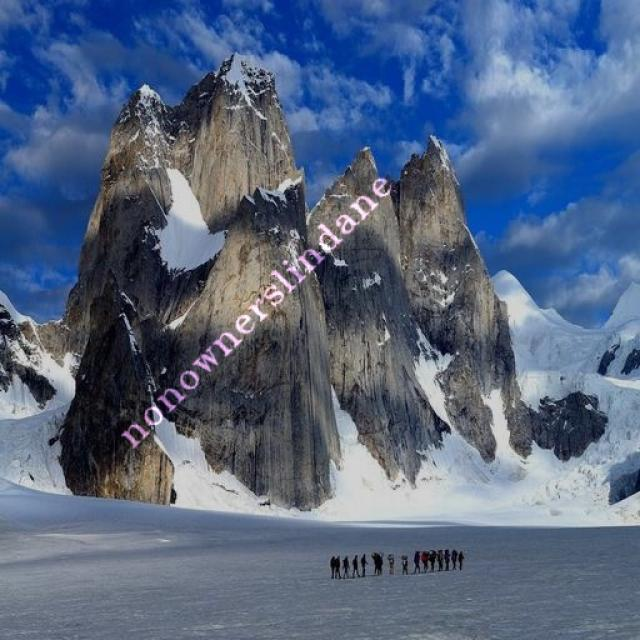watermark: (122, 157, 394, 455)
